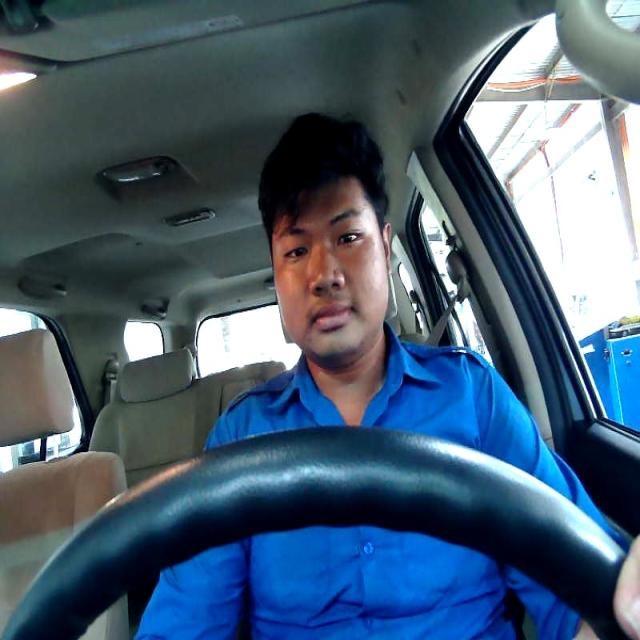focused: (272, 183, 390, 360)
